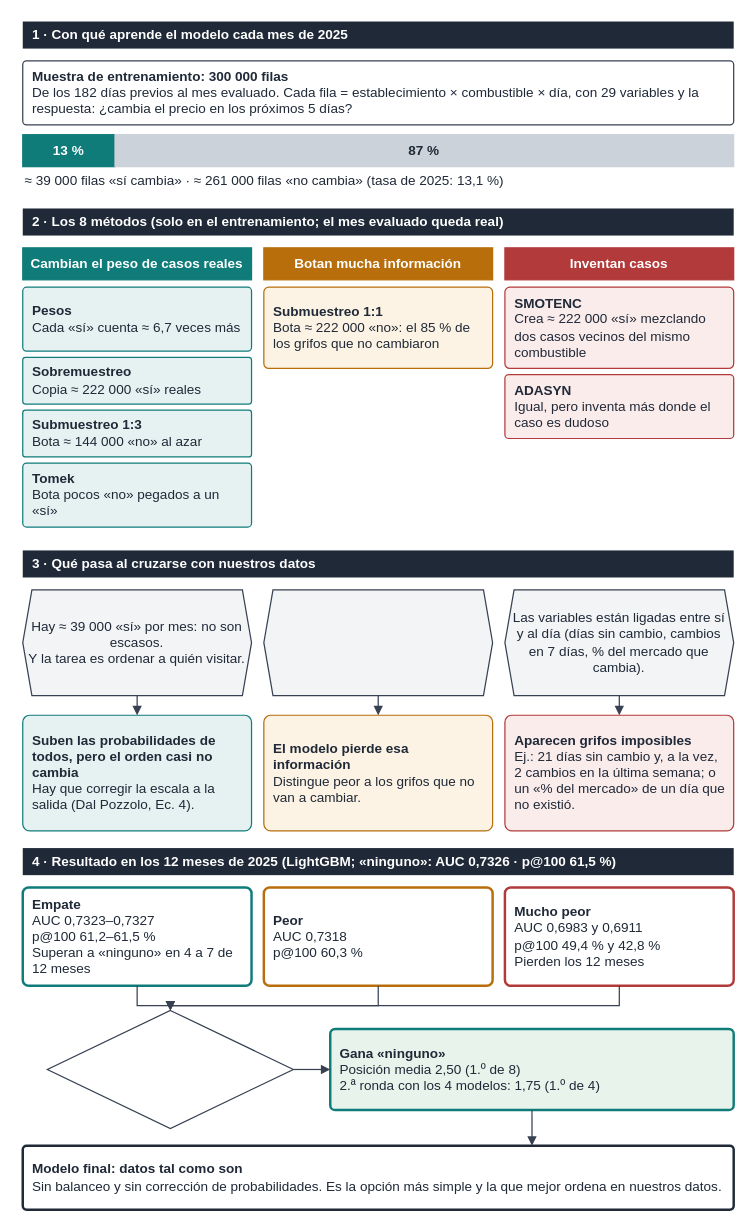
The diagram is 755 pixels wide and 1231 high, and some of its shapes have lost their labels. Here are the shapes that lost their labels. From the top down, the box of each, then its label:
(263, 589, 493, 696): Los «no» enseñan cómo es un grifo estable.
(46, 1009, 293, 1129): Regla fijada antes: mejor posición media en las 4 métricas
